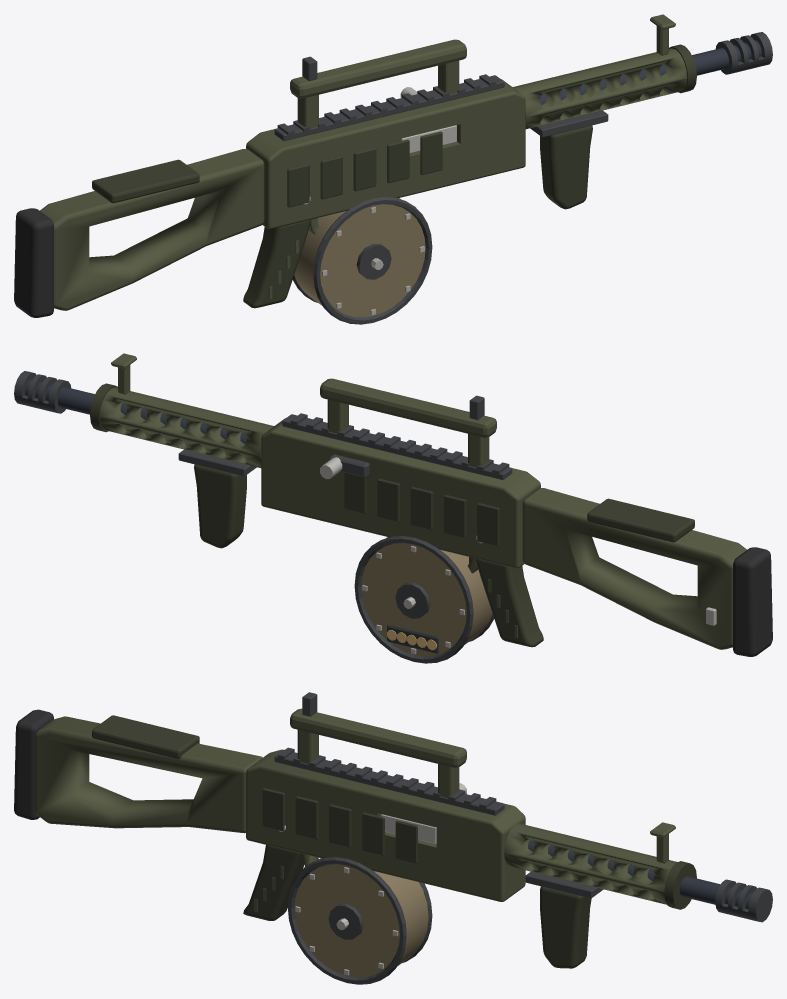
The model's file is riot12.glb.
The picture shows the model from 3 angles, top to bottom: view 1: azimuth 30°, elevation 25°; view 2: azimuth 150°, elevation 25°; view 3: azimuth 330°, elevation 25°; orthographic projection.
Parts seen in each view (by area): view 1: gun_frame, gun_mag; view 2: gun_frame, gun_mag, gun_slide; view 3: gun_frame, gun_mag.
Boxes of the visible parts, x1=… form: gun_frame: x1=14, y1=14, x2=772, y2=317; gun_mag: x1=292, y1=197, x2=432, y2=324; gun_frame: x1=14, y1=353, x2=772, y2=656; gun_mag: x1=354, y1=536, x2=494, y2=663; gun_slide: x1=320, y1=454, x2=369, y2=479; gun_frame: x1=14, y1=692, x2=772, y2=968; gun_mag: x1=287, y1=857, x2=432, y2=984.
Size of the model in its own units: 1.01 by 0.3445 by 0.108.
